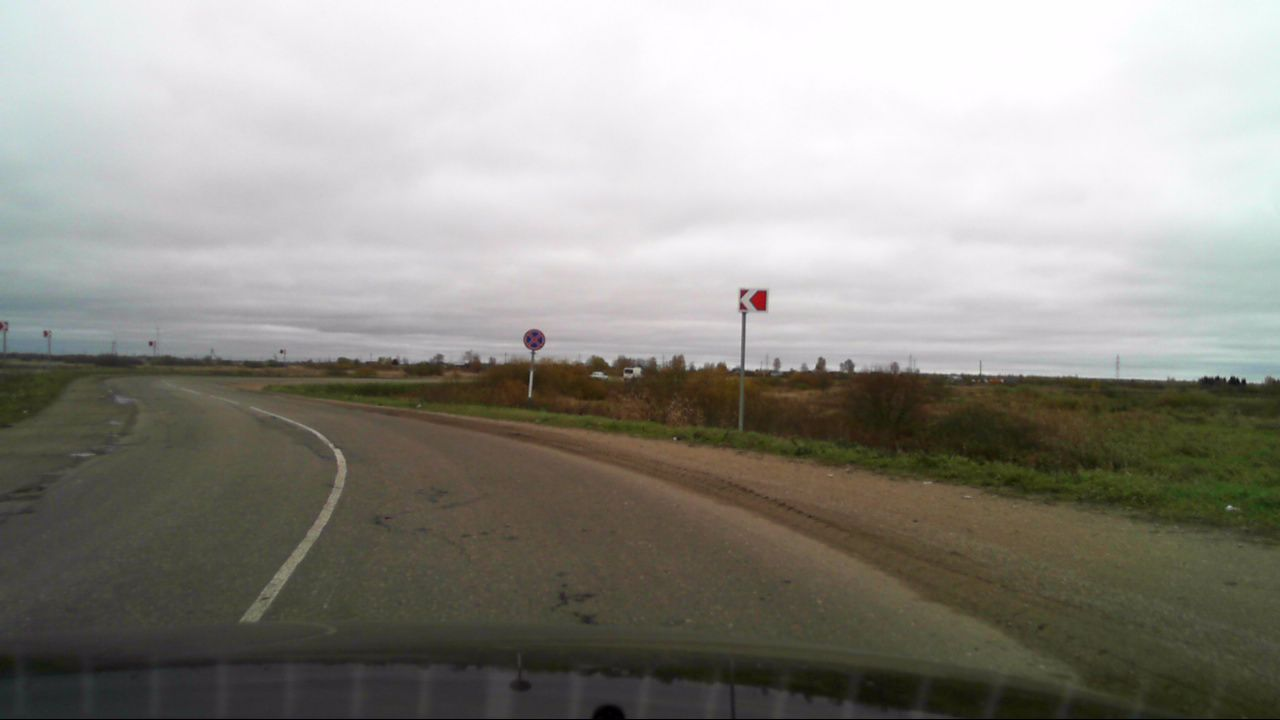No Parking: (522, 328, 546, 351)
